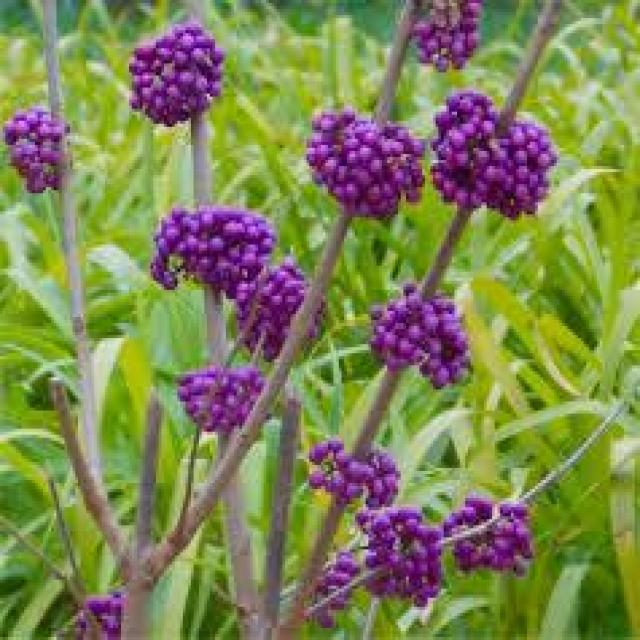organic waste: (422, 86, 562, 231), (306, 107, 425, 222), (150, 193, 278, 296), (364, 285, 475, 385), (118, 26, 232, 116), (361, 504, 446, 607), (240, 252, 310, 358), (458, 492, 544, 574), (309, 439, 401, 506), (179, 361, 270, 421), (5, 113, 70, 195), (413, 6, 496, 69)
